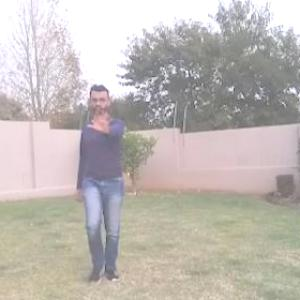follow_hand: (88, 106, 113, 135)
